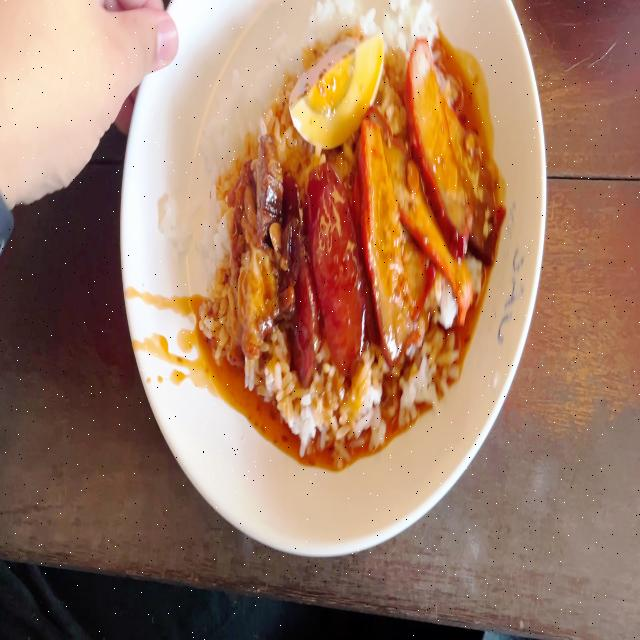boiled_egg: (293, 34, 382, 138)
chainese_sausage: (290, 162, 353, 379)
crispy_pork: (236, 147, 281, 352)
red_pork: (369, 47, 484, 331)
red_pork_and_crispy_pork: (208, 0, 491, 439)
rice: (214, 30, 291, 158), (369, 0, 440, 49)
